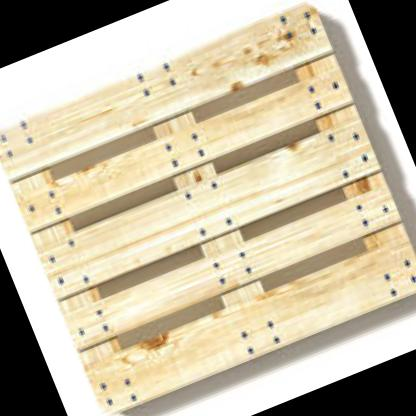BoxFace: (0, 2, 416, 416)
